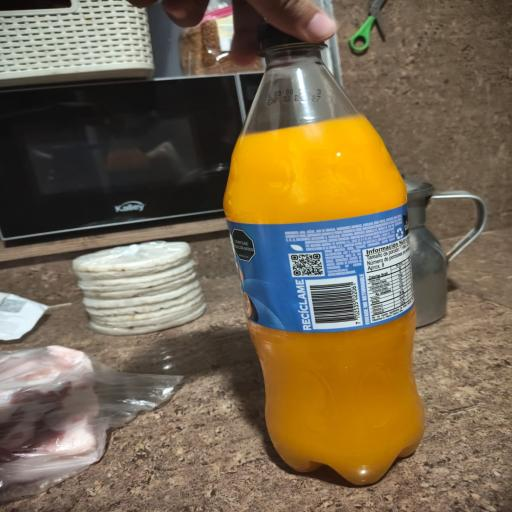Jugo del valle: (216, 8, 446, 499)
